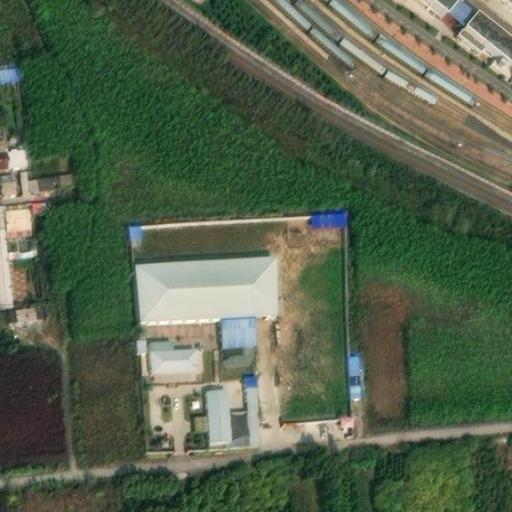building: (133, 261, 278, 331), (442, 0, 512, 77), (215, 323, 259, 372), (148, 343, 196, 382), (209, 389, 228, 449), (245, 378, 261, 447), (345, 351, 363, 407), (9, 201, 39, 233), (226, 409, 248, 448), (307, 208, 347, 228), (6, 308, 36, 331), (38, 168, 75, 186), (42, 240, 52, 292), (124, 220, 144, 246), (0, 169, 18, 192), (0, 63, 20, 79), (23, 168, 39, 187)
